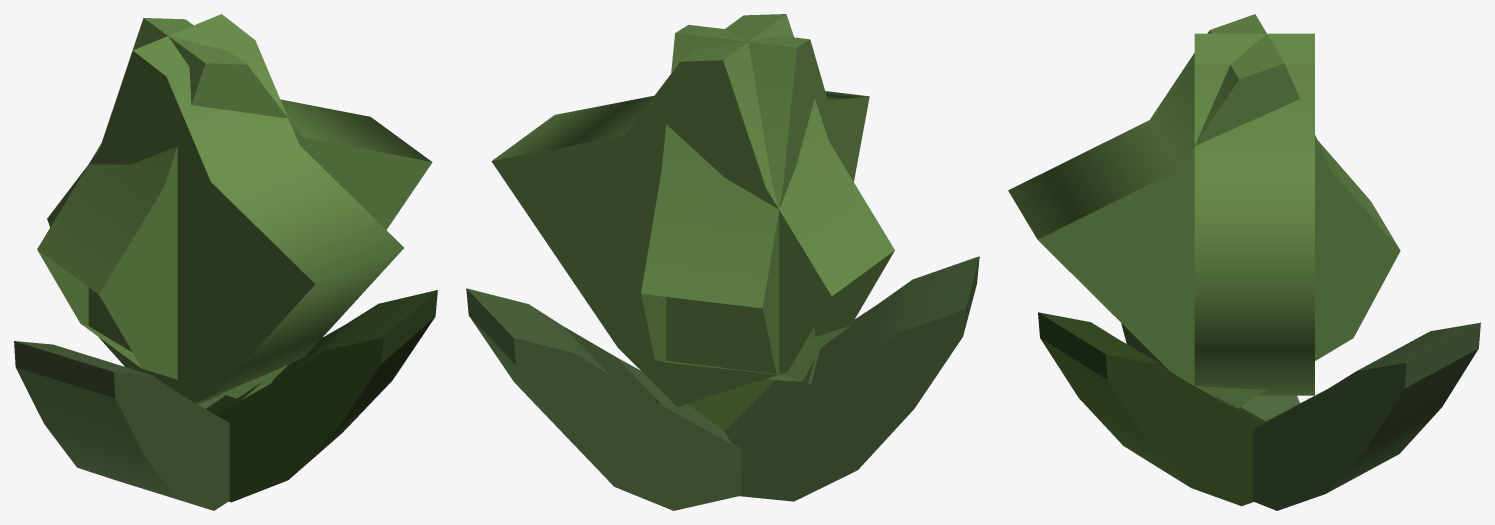
The model's file is EverGreenBranch06.fbx.
The picture shows the model from 3 angles, left to right: view 1: azimuth 30°, elevation 25°; view 2: azimuth 150°, elevation 25°; view 3: azimuth 270°, elevation 25°; orthographic projection. The views are drawn at different scales.
Parts seen in each view (by area): view 1: Evergreen06; view 2: Evergreen06; view 3: Evergreen06.
Boxes of the visible parts, bbox=[...] form: Evergreen06: bbox=[14, 14, 437, 510]; Evergreen06: bbox=[466, 14, 979, 510]; Evergreen06: bbox=[1008, 14, 1480, 510].
Size of the model in its own units: 89.09 by 90.22 by 91.39.
